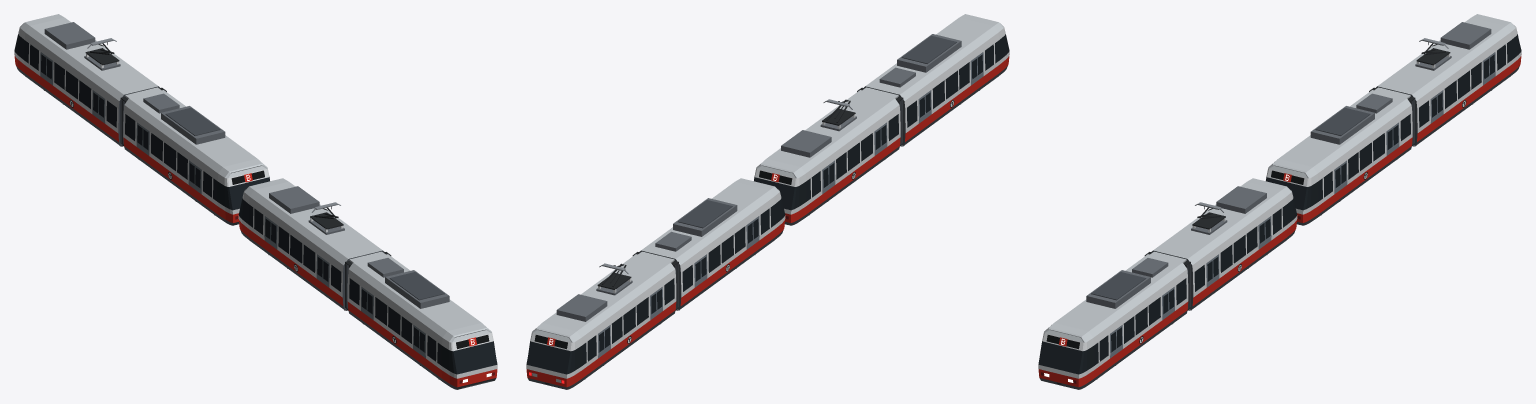
The model's file is mbta-train-red.glb.
3 renders of one model, left to right at view 1: azimuth 30°, elevation 25°; view 2: azimuth 150°, elevation 25°; view 3: azimuth 330°, elevation 25°, orthographic.
Parts seen in each view (by area): view 1: mbta-green-line-train; view 2: mbta-green-line-train; view 3: mbta-green-line-train.
Boxes of the visible parts, x1=… form: mbta-green-line-train: x1=14, y1=14, x2=497, y2=389; mbta-green-line-train: x1=526, y1=14, x2=1009, y2=389; mbta-green-line-train: x1=1038, y1=14, x2=1521, y2=389.
Bounding box in the file's own units: 2.72 × 4.36 × 45.01.
